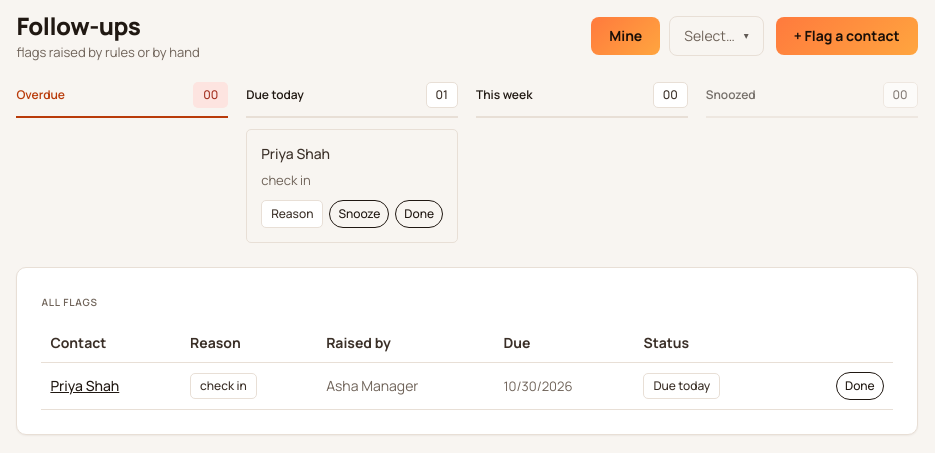
Test: FollowUpFlagsPage › resolving a flag via Done removes it from the queue
expect the text "Priya Shah" is shown: met, box [261,144,330,163]
Click the button "Done" below "01": (419, 214) [395,200,443,228]
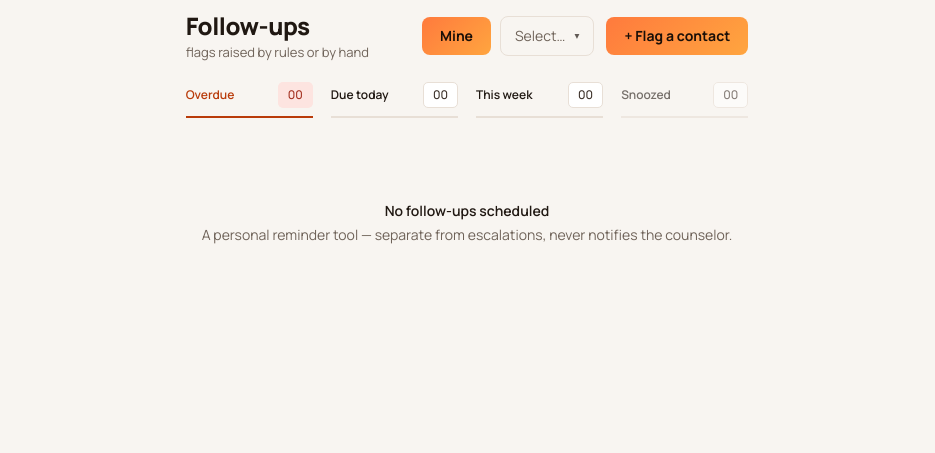
expect the text "Priya Shah" is gone: met
